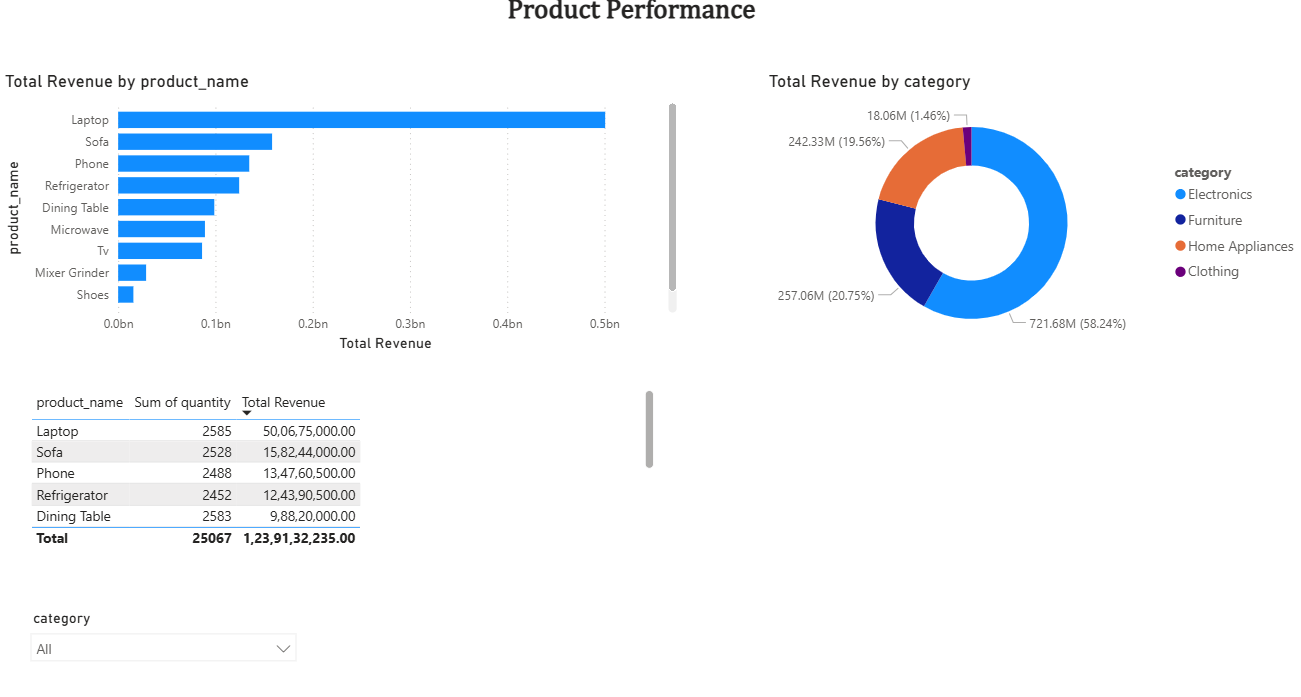

What the dashboard file says about the page in this screenshot:
{"tool":"powerbi","page":{"name":"Product Performance","canvas":[1280,720],"ordinal":1},"visuals":[{"type":"clusteredBarChart","fields":{"Category":["cleaned_retail_data.product_name"],"Y":["cleaned_retail_data.Total Revenue"]},"box":[0,80,667.1,280],"z":0},{"type":"donutChart","fields":{"Category":["cleaned_retail_data.category"],"Y":["cleaned_retail_data.Total Revenue"]},"box":[747.1,80,532.9,280],"z":1000},{"type":"tableEx","fields":{"Values":["cleaned_retail_data.product_name","Sum(cleaned_retail_data.quantity)","cleaned_retail_data.Total Revenue"]},"box":[24.3,387.1,620,164.3],"z":2000},{"type":"slicer","fields":{"Values":["cleaned_retail_data.category"]},"box":[20,601.4,280,58.6],"z":3000},{"type":"textbox","box":[491.4,0,255.7,80],"z":4000}]}

Visuals, with their boxes on the page's 1280x720 design canvas (x1, y1, x2, y2). These are canvas units, not pixel positions in the 1301x697 screenshot, which may show the page scaled, cropped or inside an application window:
clusteredBarChart - cleaned_retail_data.product_name x cleaned_retail_data.Total Revenue: select_region(0, 80, 667, 360)
donutChart - cleaned_retail_data.category x cleaned_retail_data.Total Revenue: select_region(747, 80, 1280, 360)
tableEx - cleaned_retail_data.product_name x Sum(cleaned_retail_data.quantity): select_region(24, 387, 644, 551)
slicer - cleaned_retail_data.category: select_region(20, 601, 300, 660)
textbox: select_region(491, 0, 747, 80)
